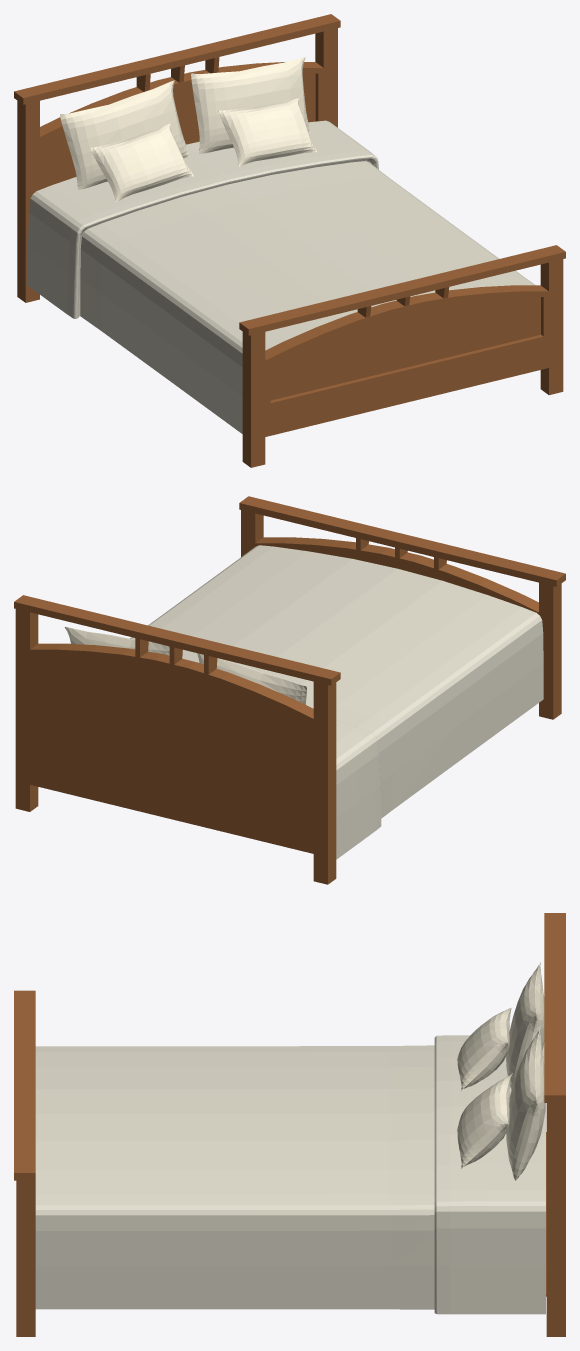
The model's file is Bed.glb.
3 renders of one model, top to bottom at view 1: azimuth 30°, elevation 25°; view 2: azimuth 150°, elevation 25°; view 3: azimuth 270°, elevation 25°, orthographic. The views are drawn at different scales.
Visible parts, largest first — view 1: Node; view 2: Node; view 3: Node.
Part boxes in pixels (x1=…): Node: x1=14, y1=14, x2=565, y2=467; Node: x1=14, y1=496, x2=565, y2=884; Node: x1=14, y1=913, x2=565, y2=1336.
Bounding box in the file's own units: 69.25 × 43.02 × 88.67.
